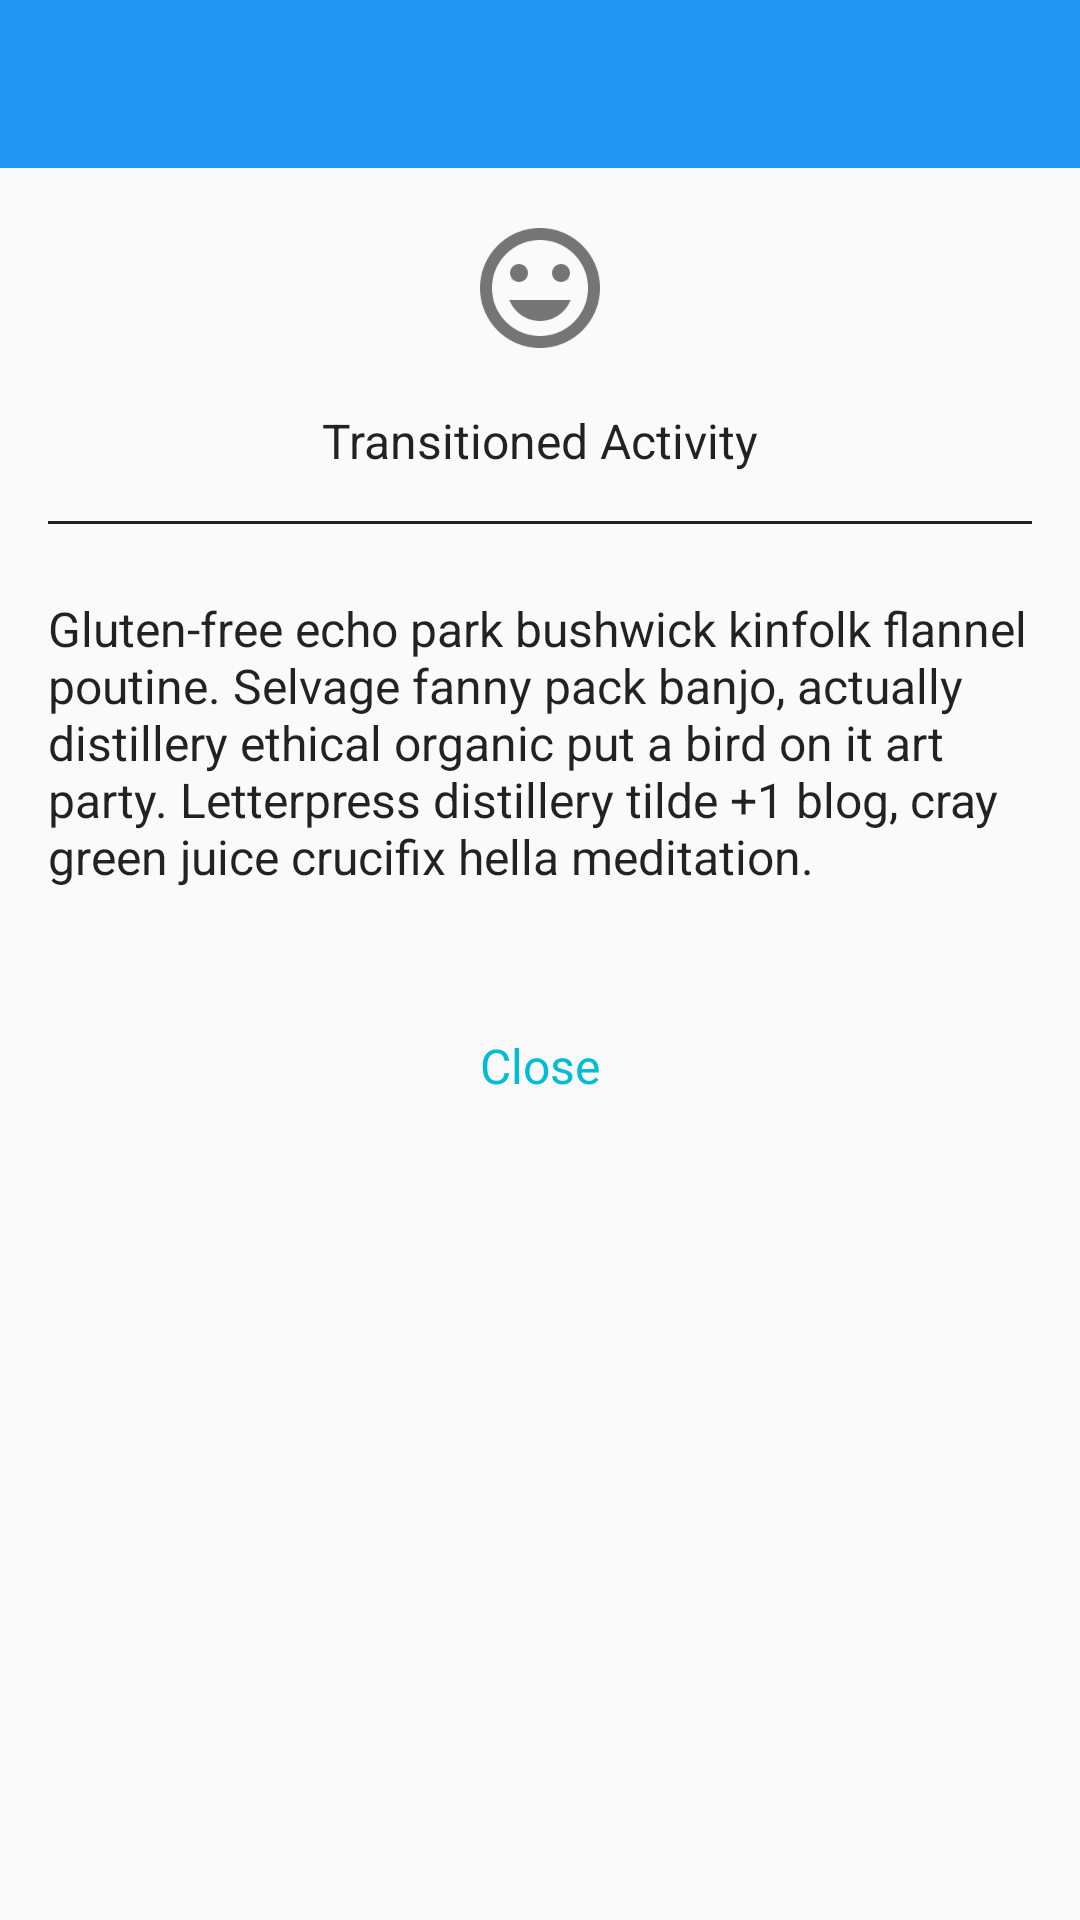

Named icons in this screenshot (1080px x 1920px) and their bounding boxes, (x1, y1, x2, y2):
emoticon smile: (480, 228, 600, 348)
